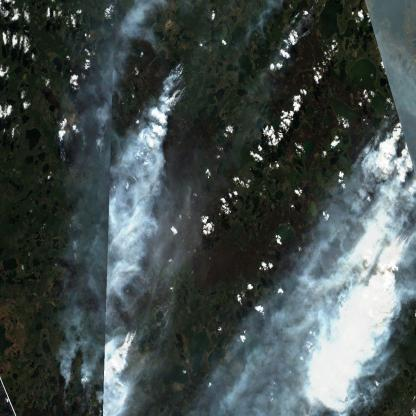fire: (57, 369, 97, 408), (165, 59, 192, 107), (292, 0, 319, 40), (123, 322, 145, 352)
